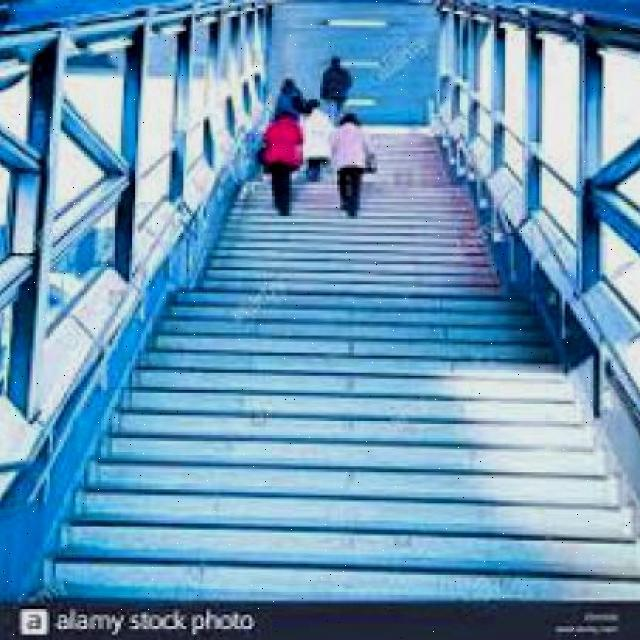stair: (30, 368, 628, 604)
